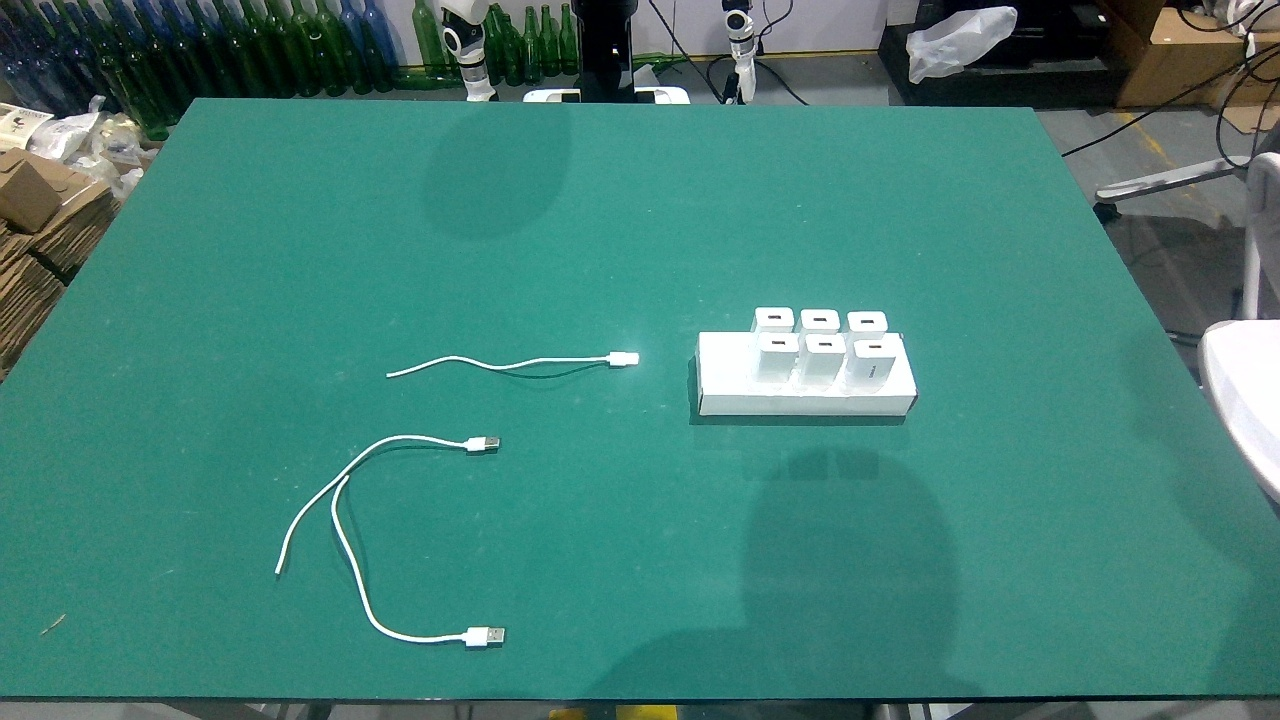usb_a_port: (769, 339, 788, 347), (816, 341, 835, 349), (858, 318, 877, 325), (811, 316, 829, 323), (766, 314, 783, 321), (866, 344, 884, 350)
